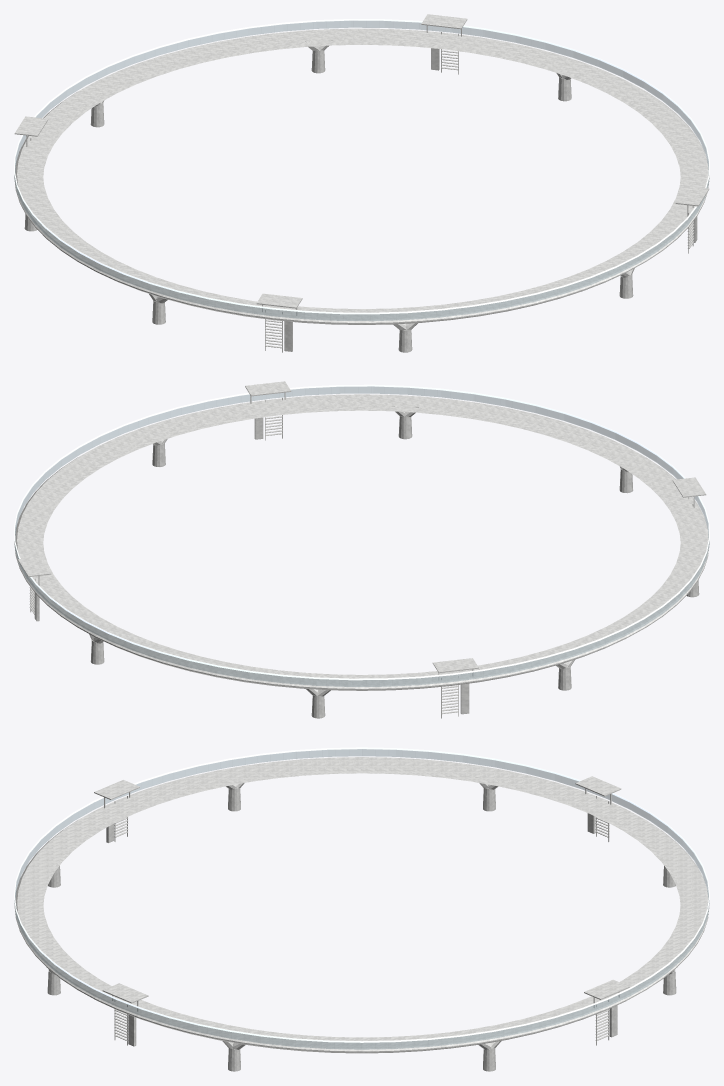
The model's file is pearl_ring.glb.
3 views of the same model, one above another, from view 1: azimuth 30°, elevation 25°; view 2: azimuth 150°, elevation 25°; view 3: azimuth 270°, elevation 25° (orthographic).
Visible parts, largest first — view 1: PearlRing_Deck, PearlRing_Balustrade, PearlRing_Stairs, LED_PearlRing_Handrail, PearlRing_Columns; view 2: PearlRing_Deck, PearlRing_Balustrade, PearlRing_Stairs, LED_PearlRing_Handrail, PearlRing_Columns; view 3: PearlRing_Deck, PearlRing_Balustrade, PearlRing_Stairs, LED_PearlRing_Handrail, PearlRing_Columns.
Boxes of the visible parts, bbox=[...] form: PearlRing_Deck: bbox=[14, 28, 709, 324]; PearlRing_Balustrade: bbox=[14, 20, 709, 321]; PearlRing_Stairs: bbox=[14, 14, 709, 352]; LED_PearlRing_Handrail: bbox=[14, 19, 709, 314]; PearlRing_Columns: bbox=[24, 40, 634, 352]; PearlRing_Deck: bbox=[14, 394, 709, 690]; PearlRing_Balustrade: bbox=[14, 386, 709, 686]; PearlRing_Stairs: bbox=[17, 381, 706, 718]; LED_PearlRing_Handrail: bbox=[14, 384, 709, 680]; PearlRing_Columns: bbox=[89, 406, 699, 718]; PearlRing_Deck: bbox=[14, 757, 709, 1053]; PearlRing_Balustrade: bbox=[14, 749, 709, 1049]; PearlRing_Stairs: bbox=[94, 776, 629, 1046]; LED_PearlRing_Handrail: bbox=[14, 747, 709, 1042]; PearlRing_Columns: bbox=[47, 777, 676, 1071].
Size of what is drawn, in the model's own units: 118 by 9.64 by 118.
4 materials, 2 textured.
